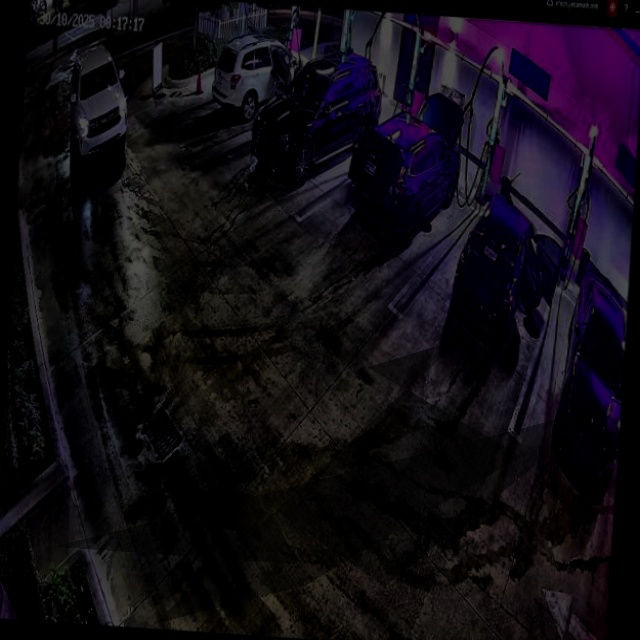Car: (248, 47, 382, 189), (451, 196, 570, 354), (351, 87, 463, 244)
